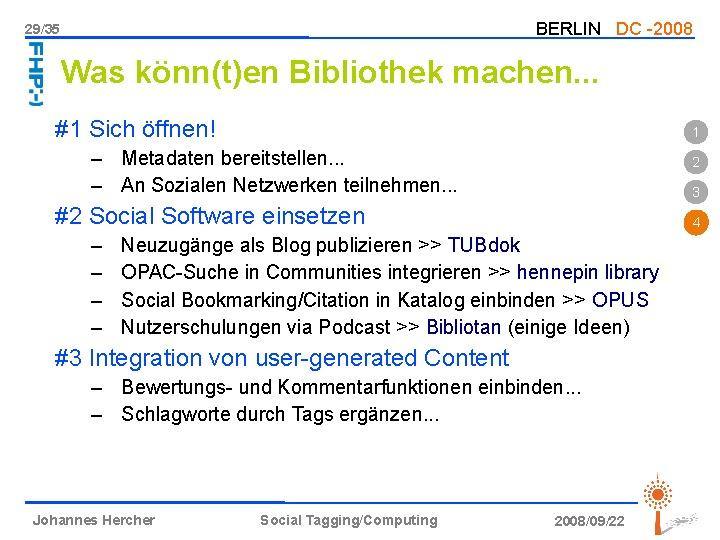paragraph: (80, 233, 667, 341), (83, 371, 622, 448), (90, 148, 477, 202)
subtitle: (59, 41, 611, 106), (49, 339, 539, 375), (30, 507, 635, 536), (43, 190, 375, 231), (50, 114, 240, 144)
title: (533, 15, 697, 39)
